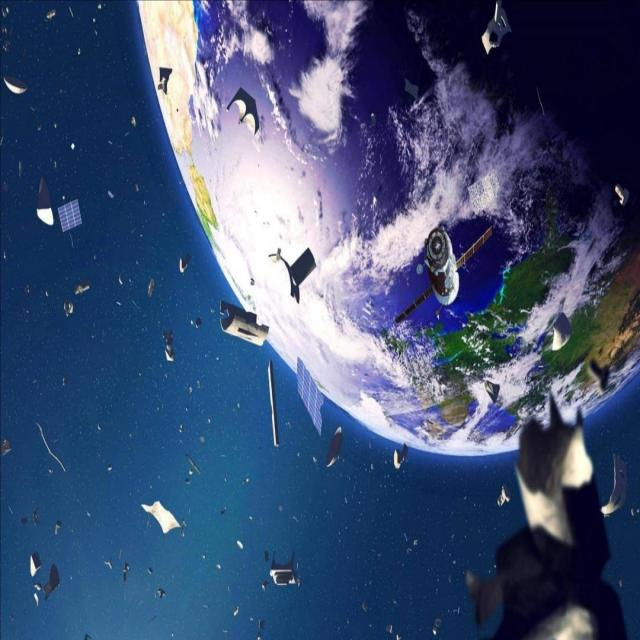large_debris: (462, 395, 628, 640), (266, 240, 320, 309), (221, 294, 271, 351), (292, 355, 326, 437), (136, 500, 192, 544), (35, 414, 70, 484), (225, 82, 262, 144), (600, 452, 629, 526), (54, 191, 86, 254), (262, 548, 304, 594), (482, 2, 512, 65), (463, 173, 503, 220), (33, 165, 57, 235), (267, 360, 283, 457), (0, 64, 28, 108), (324, 422, 342, 473), (0, 0, 15, 61), (182, 448, 203, 491), (161, 326, 182, 368), (588, 357, 613, 392), (28, 549, 42, 611), (551, 312, 571, 354), (401, 71, 423, 109), (43, 558, 60, 605), (88, 0, 105, 46), (484, 376, 504, 408), (614, 181, 632, 216), (155, 64, 174, 97), (534, 84, 550, 121), (392, 442, 410, 474), (42, 2, 62, 30), (401, 530, 418, 562), (382, 615, 403, 640), (0, 430, 14, 467), (188, 306, 203, 338), (21, 282, 33, 322), (428, 614, 446, 640), (6, 496, 17, 538), (70, 278, 94, 297), (176, 247, 192, 275), (495, 485, 512, 511), (14, 153, 26, 189), (145, 271, 157, 303), (81, 619, 98, 640), (19, 508, 32, 535), (368, 109, 381, 136), (61, 297, 76, 320), (0, 238, 11, 266), (0, 119, 7, 162), (175, 420, 187, 445), (240, 474, 251, 501), (253, 618, 266, 640), (120, 556, 131, 582), (92, 423, 107, 442), (59, 368, 69, 396), (34, 118, 46, 140), (616, 572, 626, 598), (104, 550, 114, 576), (220, 503, 231, 526), (156, 583, 168, 604), (52, 519, 61, 545), (106, 181, 115, 206), (130, 111, 140, 132), (116, 271, 126, 291), (235, 534, 246, 552), (74, 41, 84, 60), (66, 0, 75, 21), (68, 136, 76, 158), (32, 508, 40, 529), (145, 557, 152, 581), (631, 503, 640, 521), (186, 378, 194, 397), (214, 559, 222, 577), (107, 458, 113, 478), (232, 604, 240, 618)
satellite: (390, 216, 497, 328)
